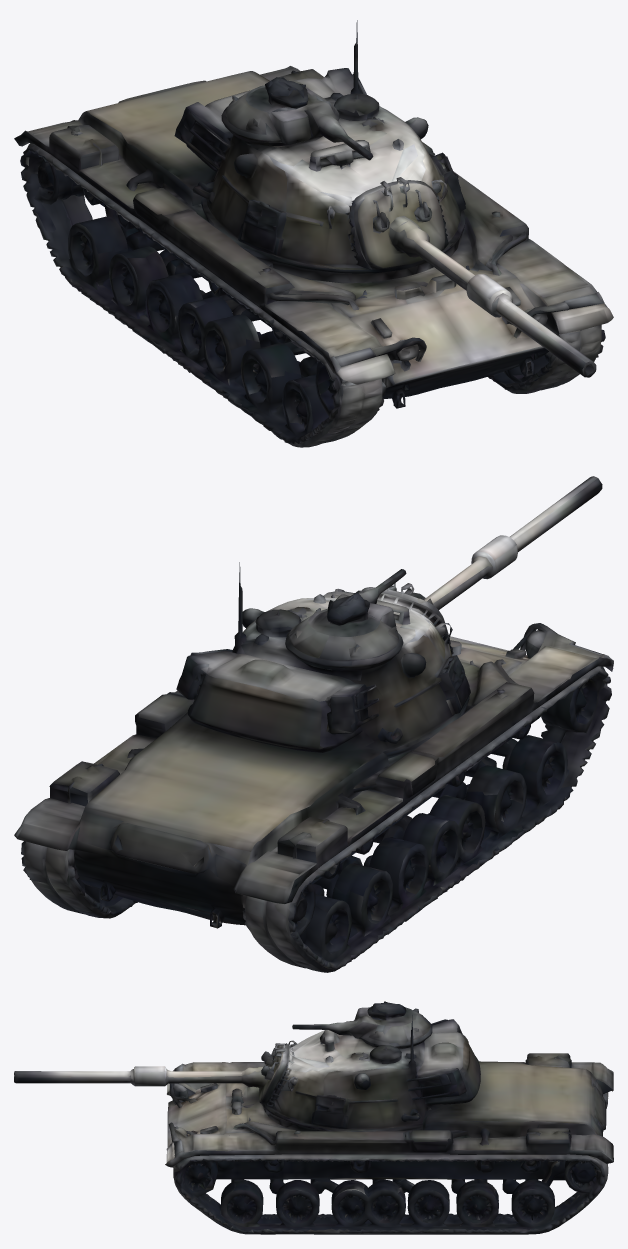
The model's file is m60_opt.glb.
3 views of the same model, one above another, from view 1: azimuth 30°, elevation 25°; view 2: azimuth 150°, elevation 25°; view 3: azimuth 270°, elevation 25° (orthographic). The views are drawn at different scales.
Parts seen in each view (by area): view 1: node_0; view 2: node_0; view 3: node_0.
Boxes of the visible parts, x1,y1,x2,y2 form: node_0: (14, 20, 613, 447); node_0: (14, 476, 613, 972); node_0: (14, 1001, 613, 1234).
Size of the model in its own units: 0.4063 by 0.4201 by 1.13.
Materials: 1 (1 with a texture image).
